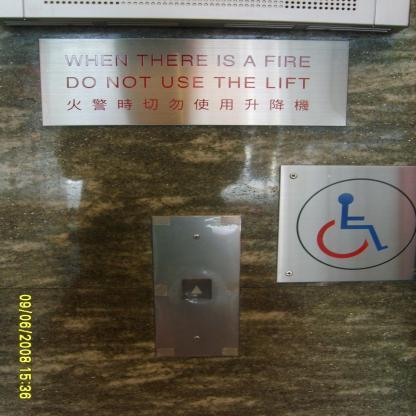CH: (274, 162, 416, 285)
up: (180, 278, 213, 301)
